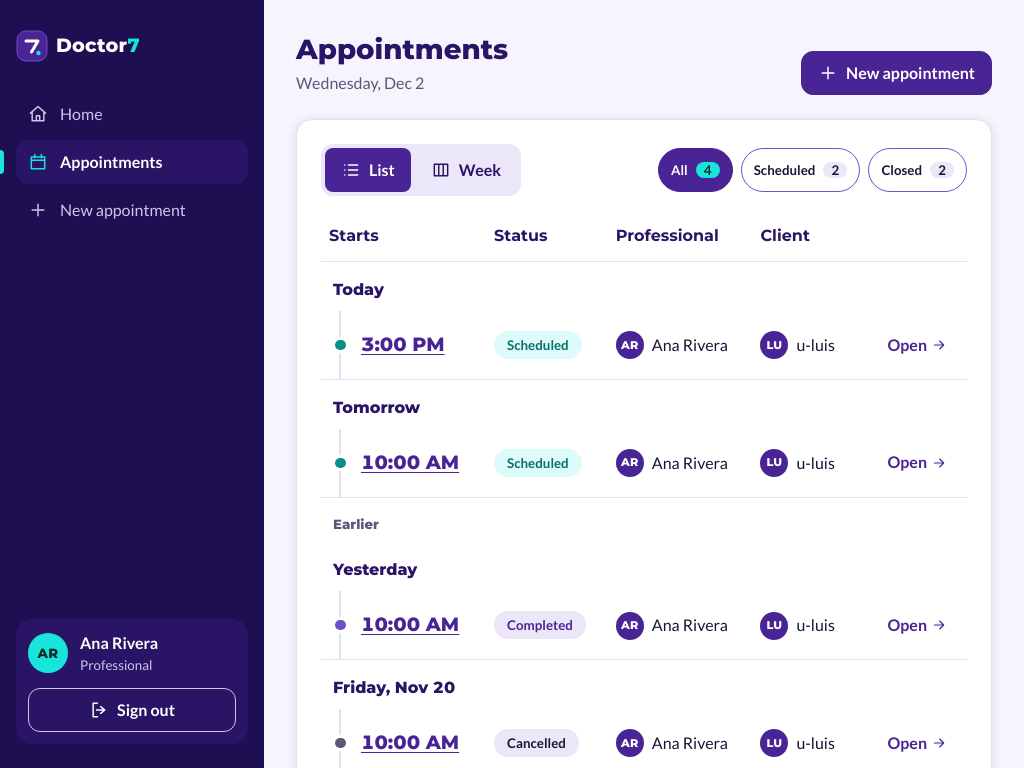
Appointments week view › follows the status filter
The width and height of the screenshot is (1024, 768).
Click the button "Week" at point(466, 170), box [415, 148, 517, 192]
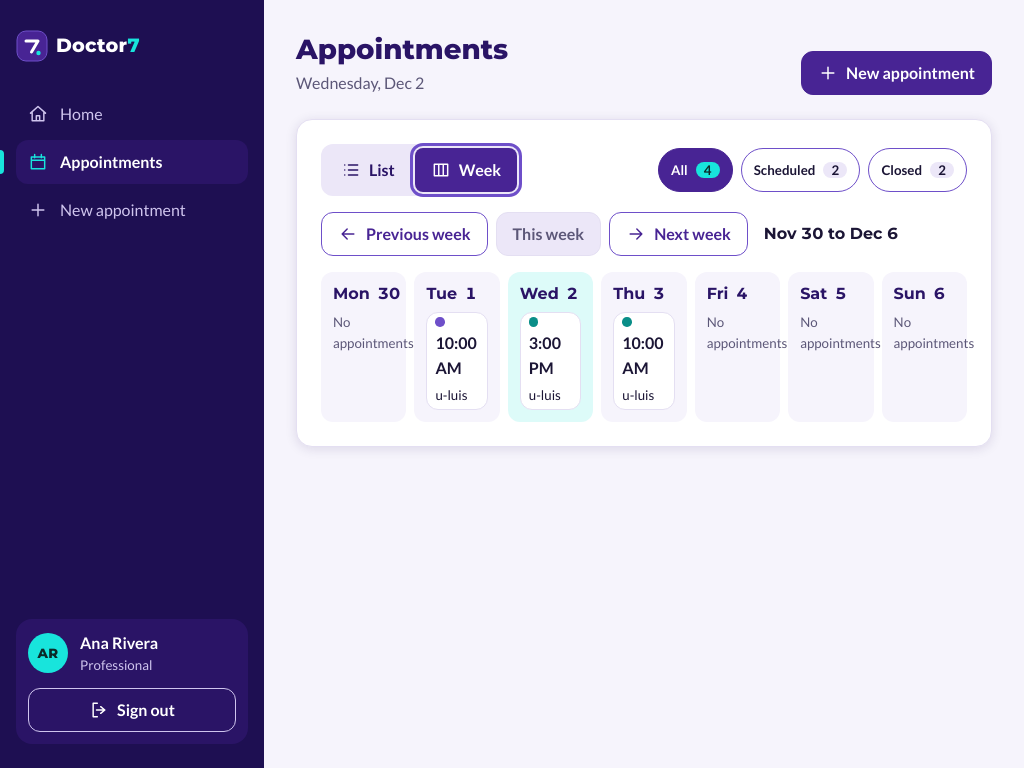
Click the button "Closed 2" at point(918, 170), box [868, 148, 967, 192]
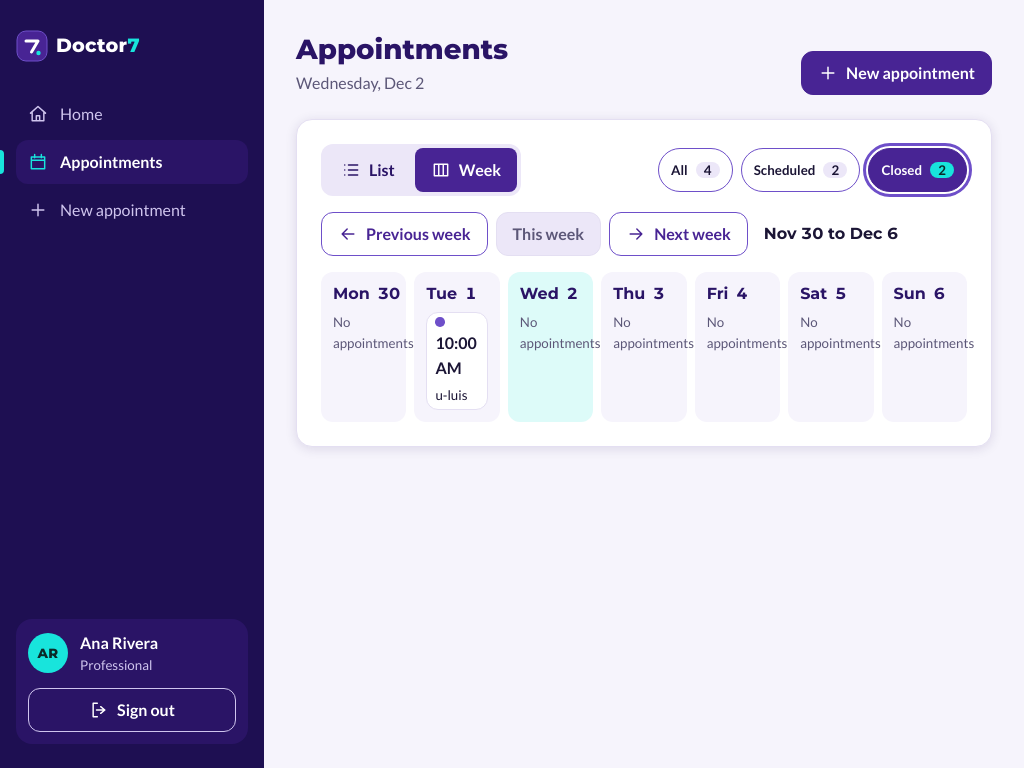
Result: the link "3:00 PM u-luis" is gone
